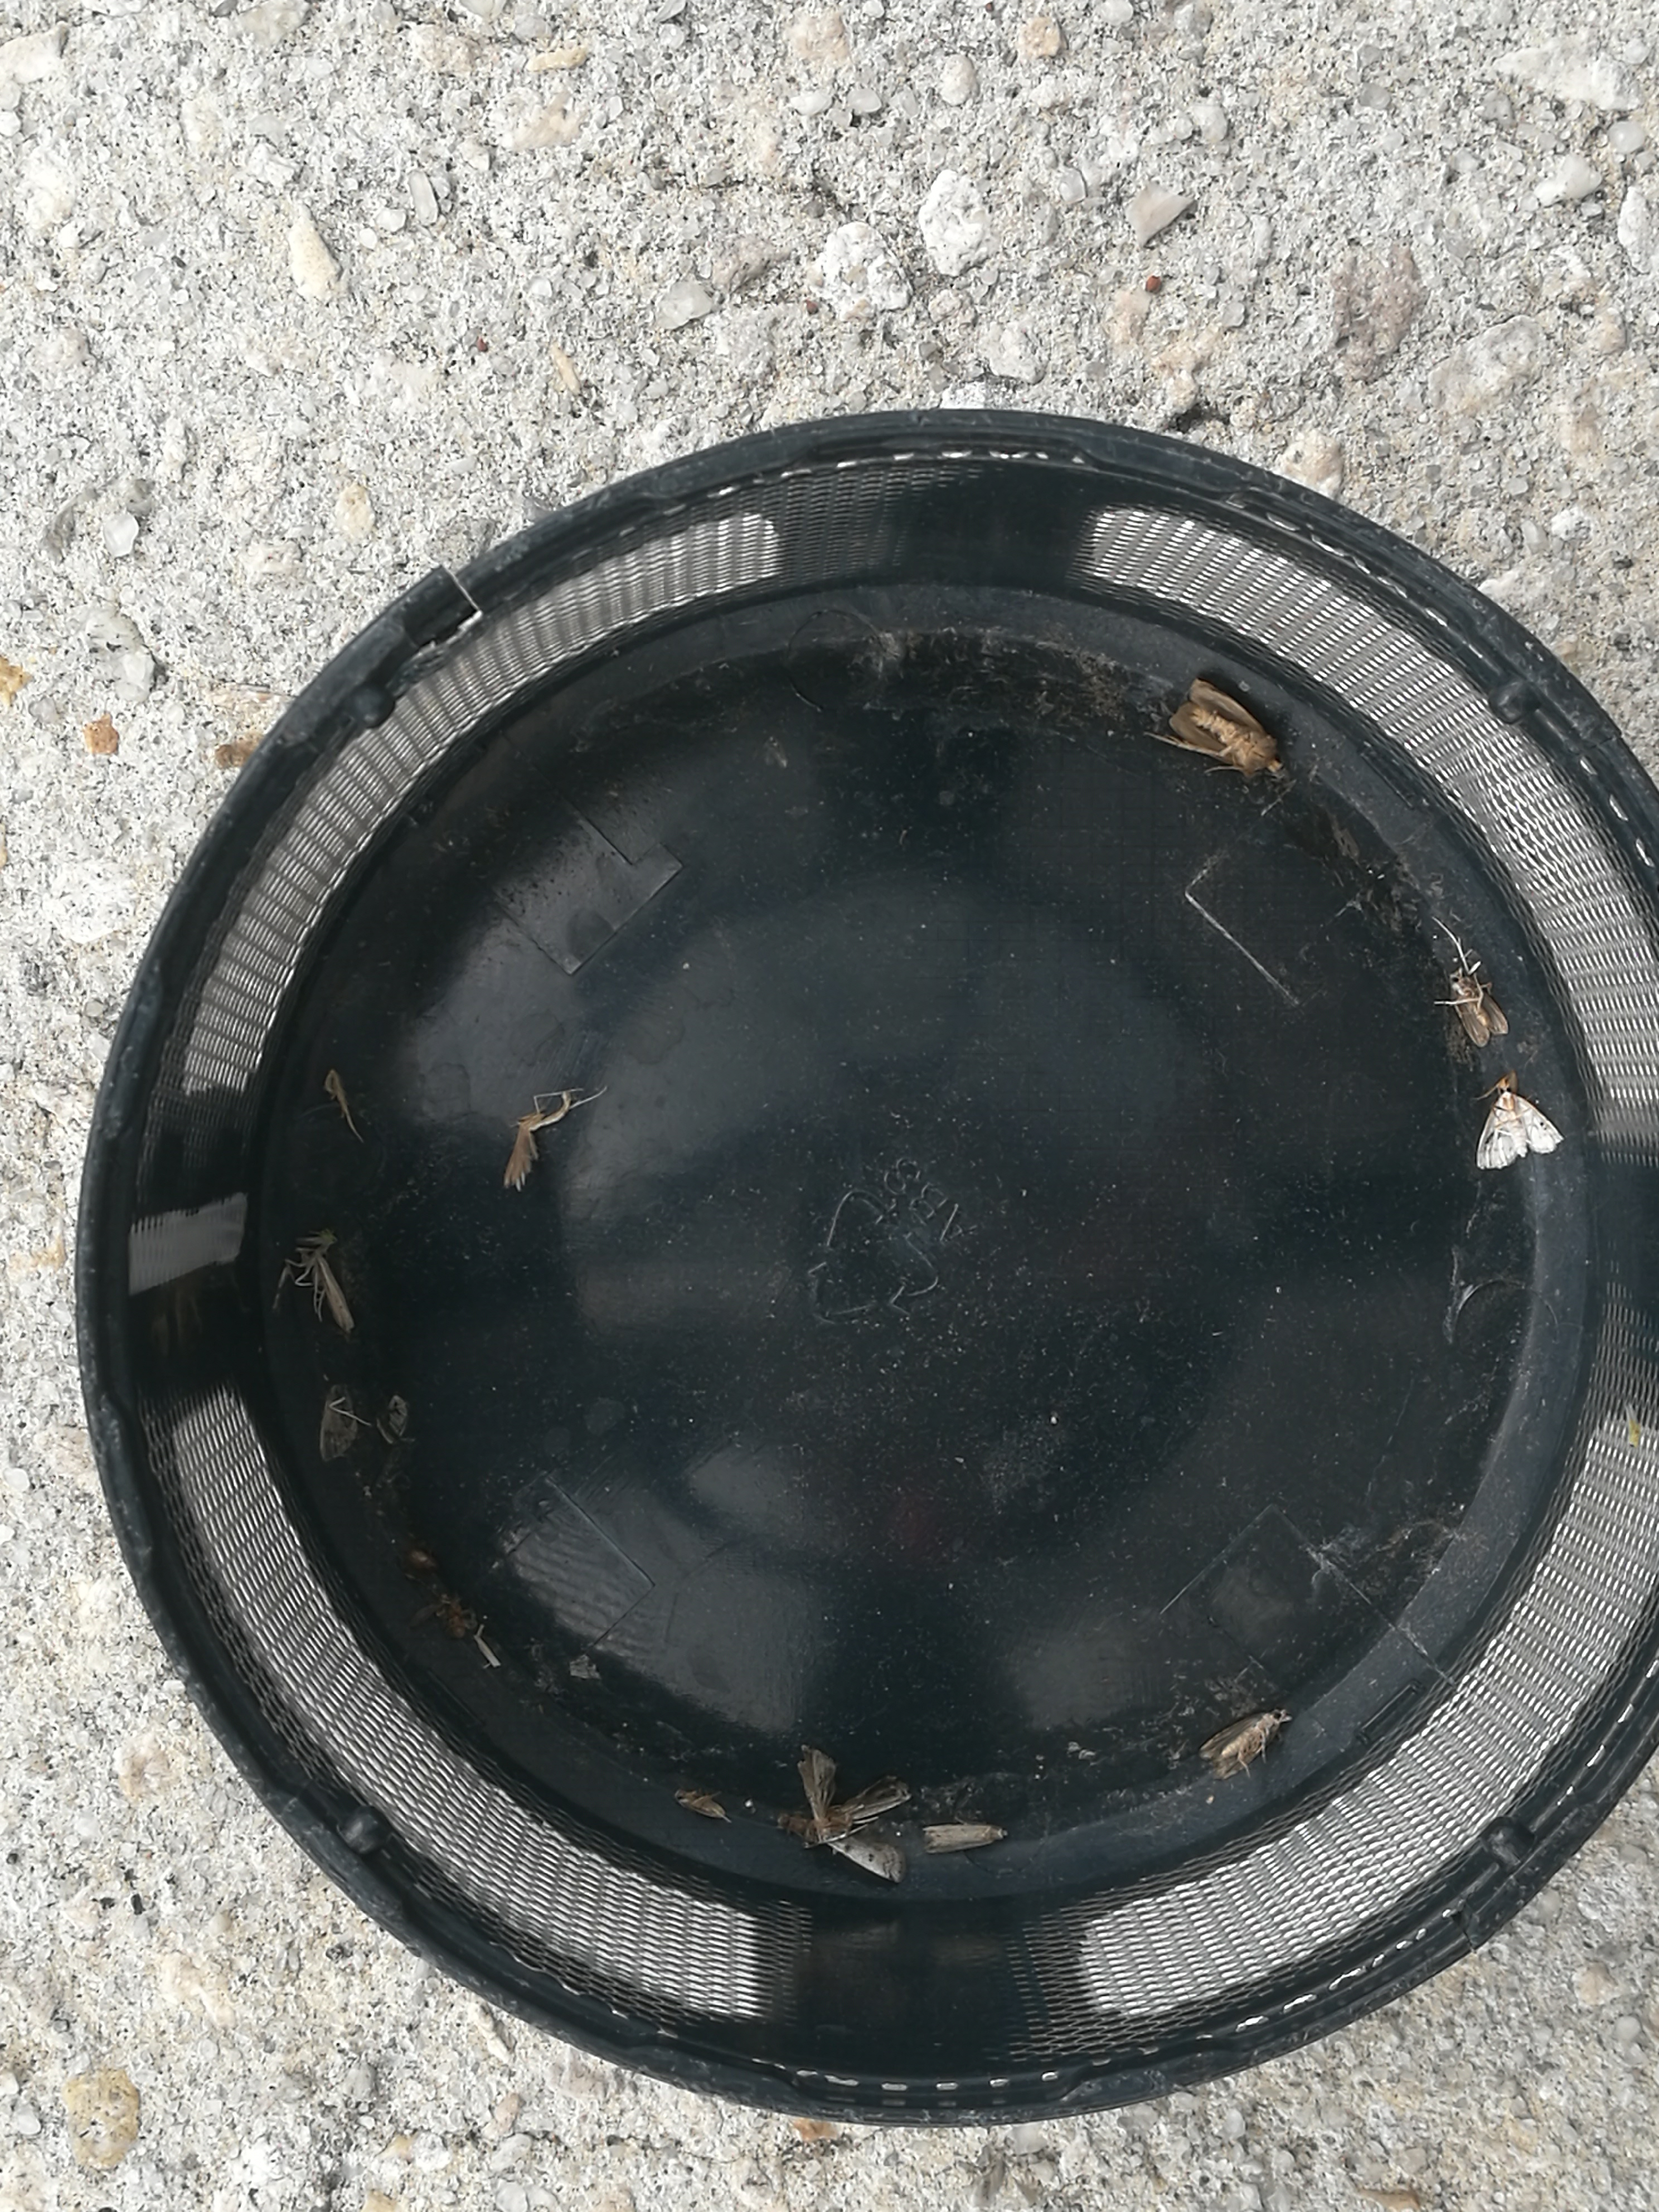mosquito: (308, 1259, 355, 1334), (920, 1825, 1002, 1848), (676, 1789, 728, 1820)
moth: (798, 1747, 910, 1881), (1154, 685, 1283, 779), (1473, 1092, 1560, 1169), (1197, 1709, 1288, 1775), (1448, 972, 1507, 1045)
